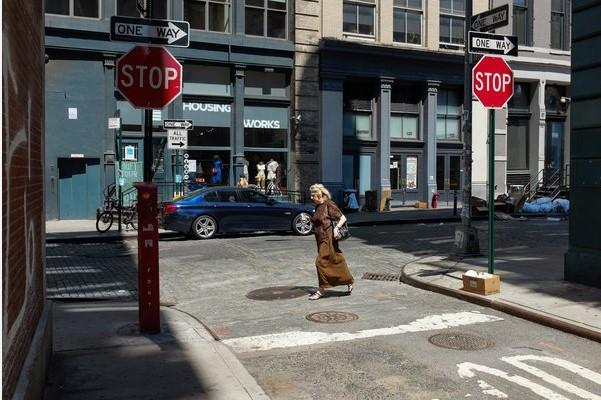Pole: (488, 109, 496, 271), (144, 111, 152, 182)
Sign: (116, 44, 183, 111), (471, 53, 515, 108)
